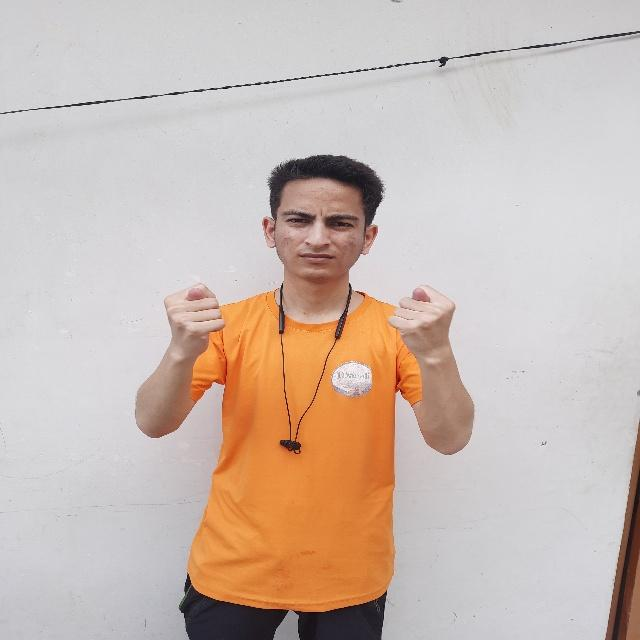Dulya: (382, 277, 466, 367), (156, 275, 232, 366)
